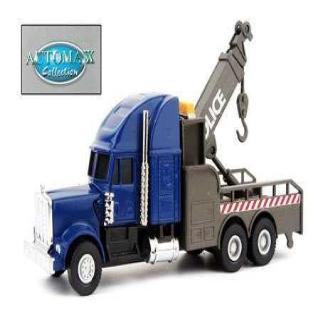Towing_truck: (22, 18, 304, 297)
